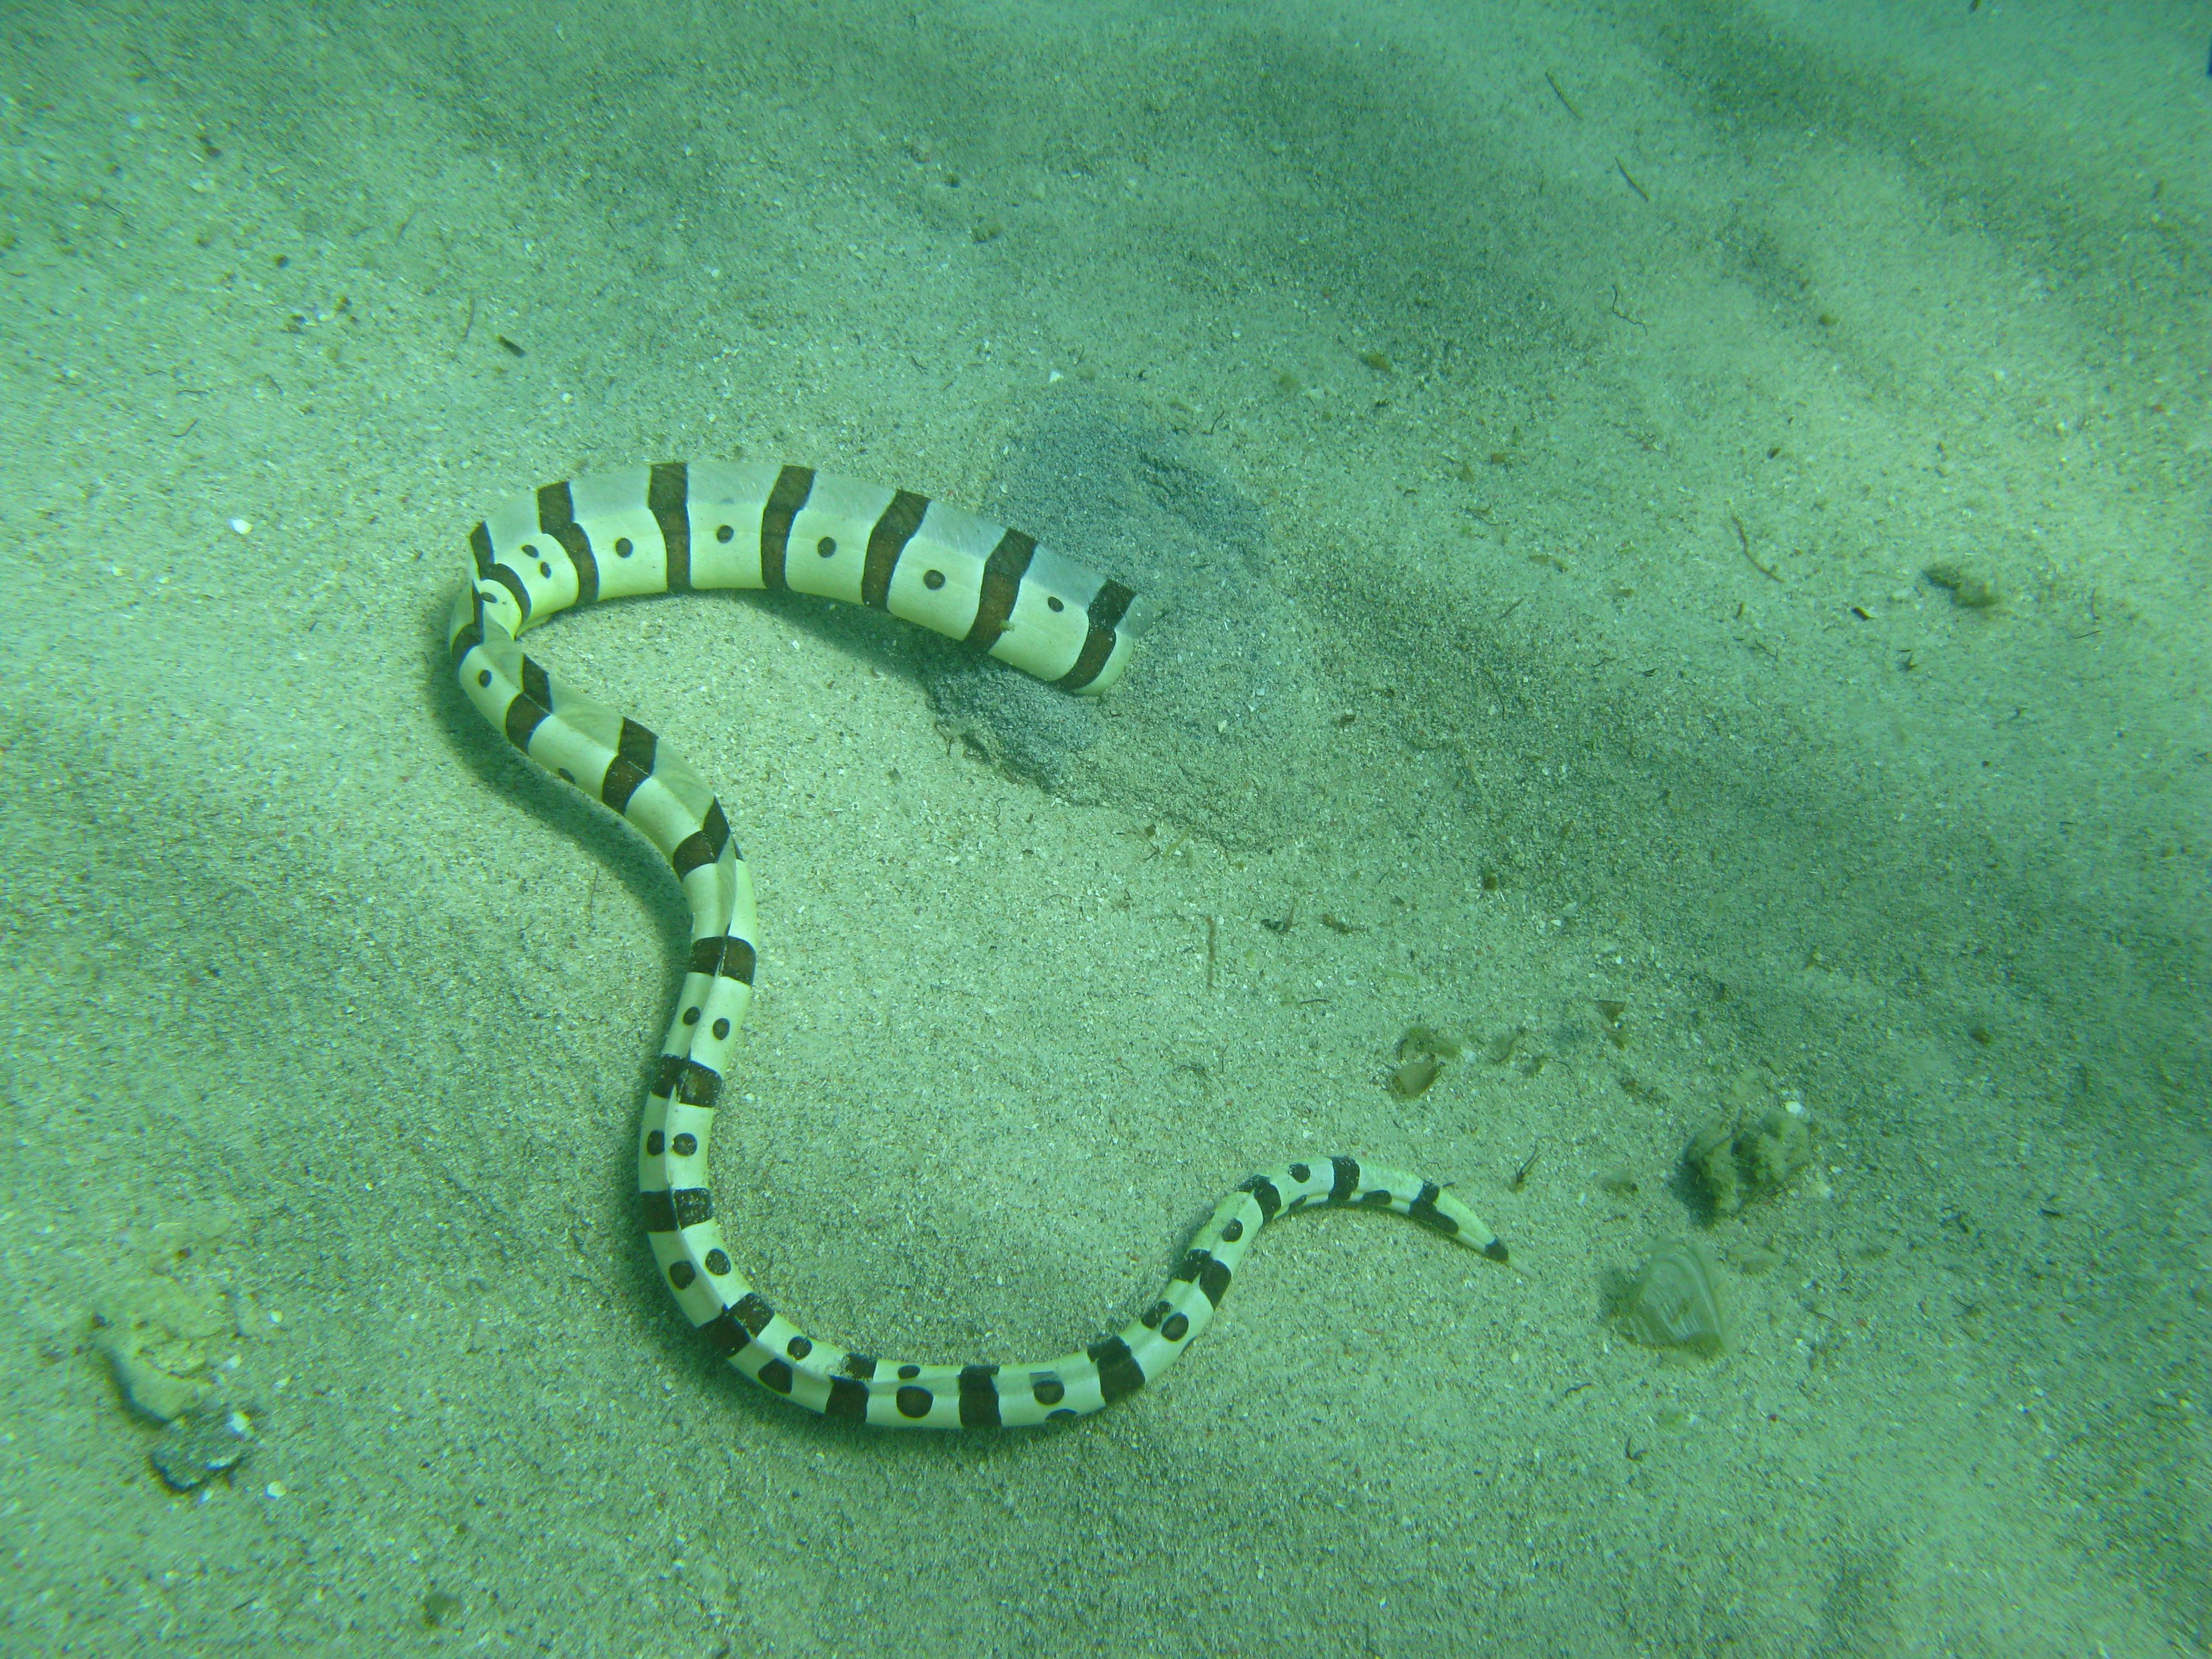Fish: (404, 423, 1543, 1462)
